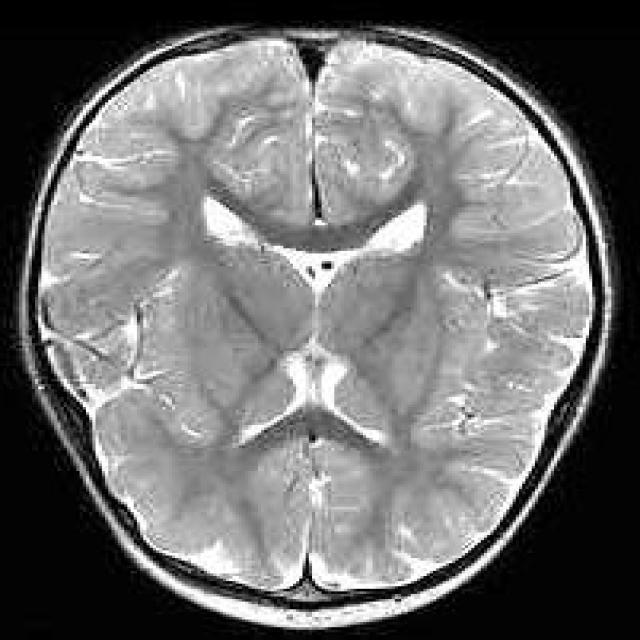notumor: (22, 28, 611, 627)
